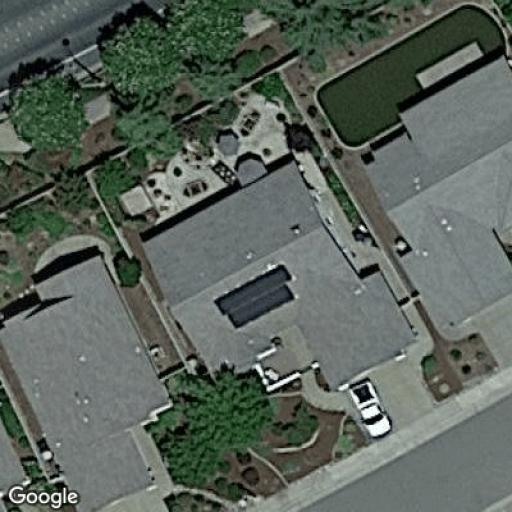solar-panel: (215, 259, 299, 333)
